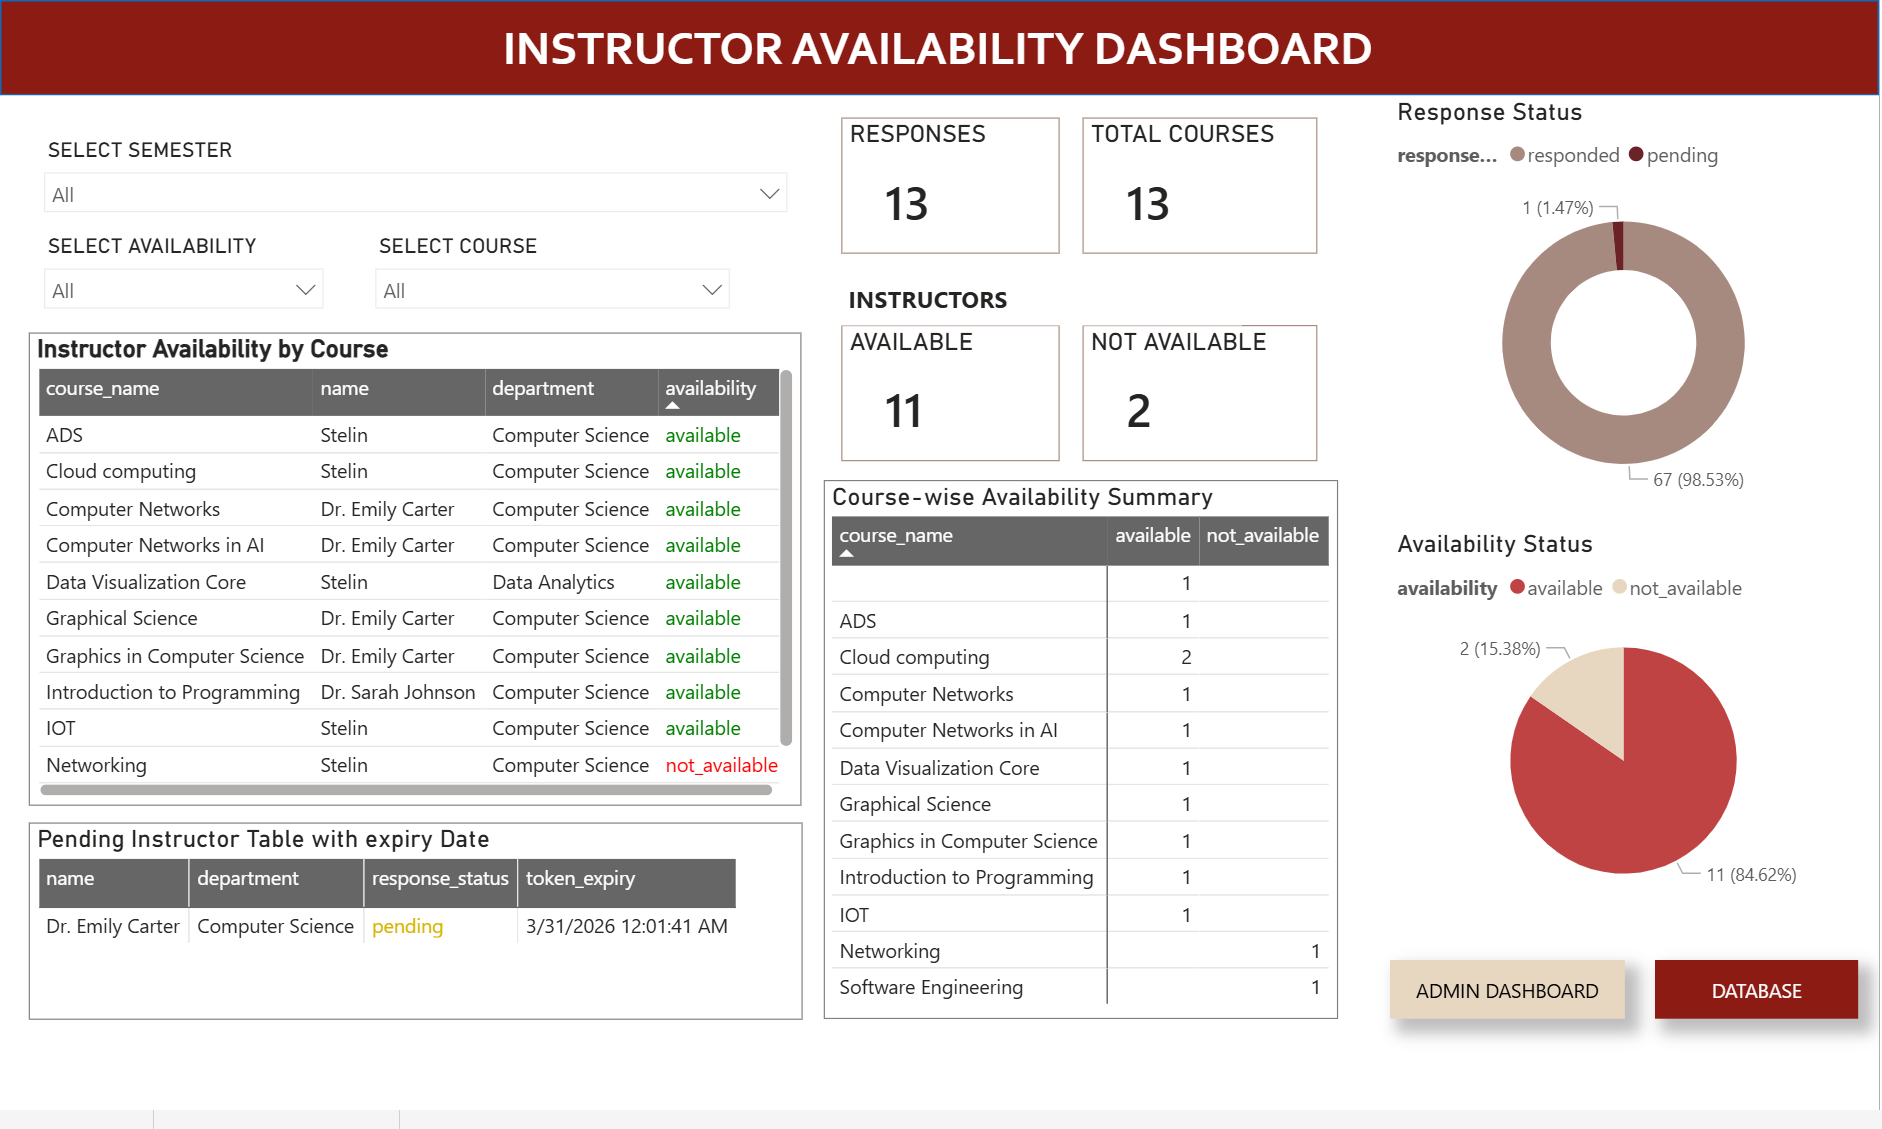

What the dashboard file says about the page in this screenshot:
{"tool":"powerbi","page":{"name":"Page 1","canvas":[1280,720],"ordinal":0},"visuals":[{"type":"slicer","fields":{"Values":["Campaign_Dim.campaign_id"]},"box":[249.3,79.5,297.8,76.8],"z":0},{"type":"shape","box":[0,0,1280,65],"z":1000},{"type":"textbox","box":[332.5,8.8,613.8,56.2],"z":2000},{"type":"cardVisual","title":"NOT AVAILABLE","fields":{"Data":["Responses.Not Available Count"]},"box":[737.2,221,187.3,93],"z":3000},{"type":"cardVisual","title":"RESPONSES","fields":{"Data":["Tracking.Total Responses"]},"box":[572.9,80,148.6,92.9],"z":4000},{"type":"cardVisual","title":"AVAILABLE","fields":{"Data":["Responses.Available Count"]},"box":[572.9,221.4,148.6,92.9],"z":5000},{"type":"slicer","fields":{"Values":["Responses.term_id"]},"box":[20.2,79.5,211.6,76.8],"z":6000},{"type":"slicer","fields":{"Values":["Responses.availability"]},"box":[20,148.9,211.1,76.7],"z":7000},{"type":"slicer","fields":{"Values":["AllCourses.course_name"]},"box":[249.3,148.2,297.8,72.8],"z":8000},{"type":"pieChart","title":"Availability Status","fields":{"Category":["Responses.availability"],"Y":["CountNonNull(Responses.availability)"]},"box":[947.1,360,318.6,267.1],"z":9000},{"type":"donutChart","title":"Response Status","fields":{"Category":["Tracking.response_status"],"Y":["CountNonNull(Tracking.response_status)"]},"box":[947.4,79.5,318,264.1],"z":10000},{"type":"tableEx","title":"Instructor Availability by Course","fields":{"Values":["AllCourses.course_name","Instructors.instructor_id","AllCourses.department","Instructors.name","Responses.availability"]},"box":[20,221.1,526.7,327.8],"z":11000},{"type":"pivotTable","title":"Course-wise Availability Summary","fields":{"Columns":["Responses.availability"],"Values":["CountNonNull(Responses.course_id)"],"Rows":["AllCourses.course_name"]},"box":[562,327.5,362.5,380],"z":12000},{"type":"actionButton","box":[947.1,654.3,160,40],"z":13000},{"type":"actionButton","box":[1127.1,654.3,138.6,40],"z":14000},{"type":"cardVisual","title":"PENIDNG RESPONSE","fields":{"Data":["CountNonNull(Tracking.response_status)"]},"box":[737.2,80.9,187.3,93],"z":15000},{"type":"textbox","box":[572.9,187.1,272.9,34.3],"z":16000},{"type":"tableEx","fields":{"Values":["Instructors.name","Instructors.department","Tracking.response_status","Tracking.token_expiry","Tracking.term_id"]},"box":[20.2,559.3,526.9,148.2],"z":17000}]}

Visuals, with their boxes on the page's 1280x720 design canvas (x1, y1, x2, y2). These are canvas units, not pixel positions in the 1882x1129 screenshot, which may show the page scaled, cropped or inside an application window:
slicer - Campaign_Dim.campaign_id: BBox(249, 80, 547, 156)
shape: BBox(0, 0, 1280, 65)
textbox: BBox(332, 9, 946, 65)
"NOT AVAILABLE" cardVisual: BBox(737, 221, 924, 314)
"RESPONSES" cardVisual: BBox(573, 80, 722, 173)
"AVAILABLE" cardVisual: BBox(573, 221, 722, 314)
slicer - Responses.term_id: BBox(20, 80, 232, 156)
slicer - Responses.availability: BBox(20, 149, 231, 226)
slicer - AllCourses.course_name: BBox(249, 148, 547, 221)
"Availability Status" pieChart: BBox(947, 360, 1266, 627)
"Response Status" donutChart: BBox(947, 80, 1265, 344)
"Instructor Availability by Course" tableEx: BBox(20, 221, 547, 549)
"Course-wise Availability Summary" pivotTable: BBox(562, 328, 924, 708)
actionButton: BBox(947, 654, 1107, 694)
actionButton: BBox(1127, 654, 1266, 694)
"PENIDNG RESPONSE" cardVisual: BBox(737, 81, 924, 174)
textbox: BBox(573, 187, 846, 221)
tableEx - Instructors.name x Instructors.department: BBox(20, 559, 547, 708)
